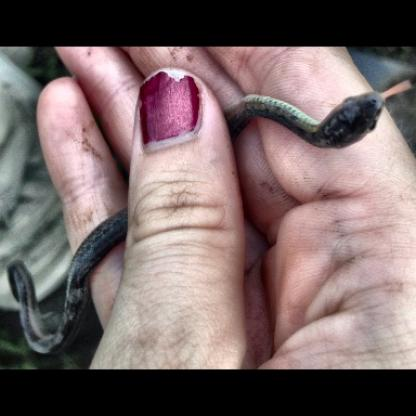Snake: (7, 90, 386, 359)
